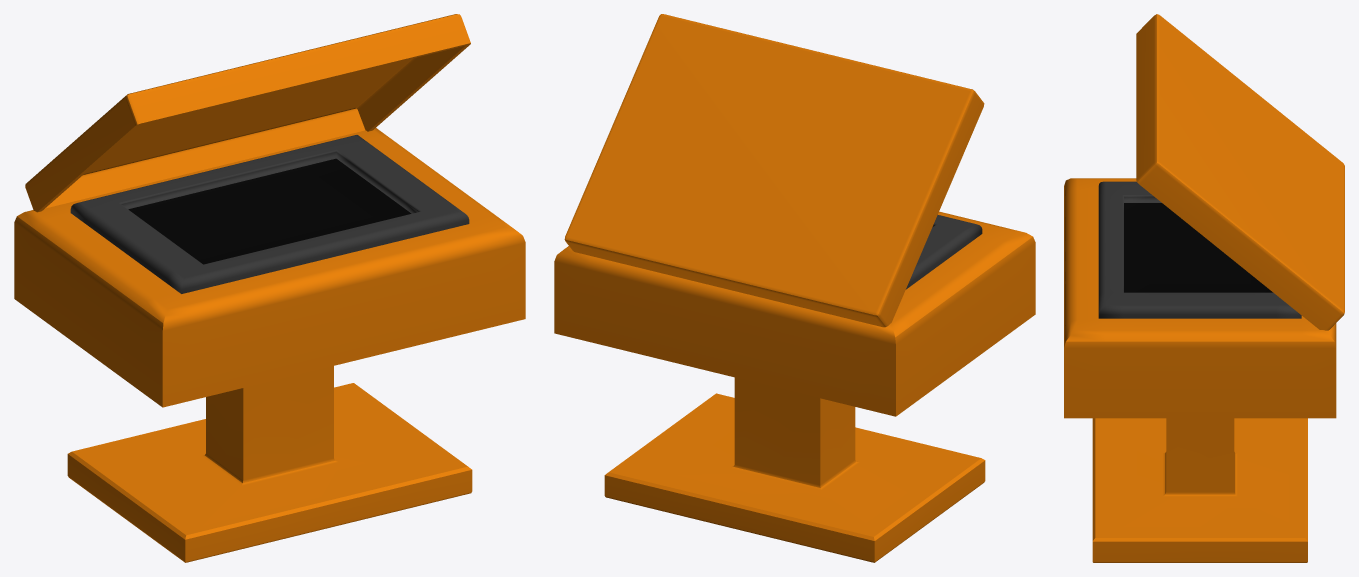
The model's file is Control_Panel.fbx.
3 views of the same model, side by side, from view 1: azimuth 30°, elevation 25°; view 2: azimuth 150°, elevation 25°; view 3: azimuth 270°, elevation 25° (orthographic). The views are drawn at different scales.
Parts seen in each view (by area): view 1: Control_Panel, Lid; view 2: Control_Panel, Lid; view 3: Control_Panel, Lid.
Boxes of the visible parts, x1=… form: Control_Panel: x1=14, y1=128, x2=525, y2=562; Lid: x1=25, y1=14, x2=470, y2=212; Control_Panel: x1=554, y1=211, x2=1035, y2=562; Lid: x1=564, y1=14, x2=984, y2=327; Control_Panel: x1=1064, y1=178, x2=1336, y2=562; Lid: x1=1136, y1=14, x2=1344, y2=330.
Size of the model in its own units: 37.86 by 44.77 by 27.66.
